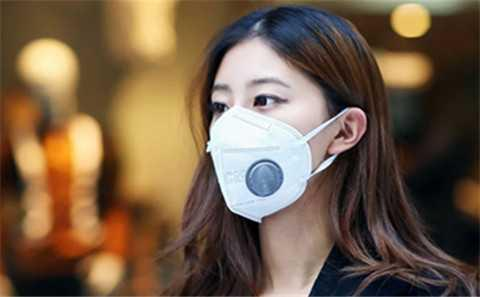OK: (203, 73, 342, 212)
